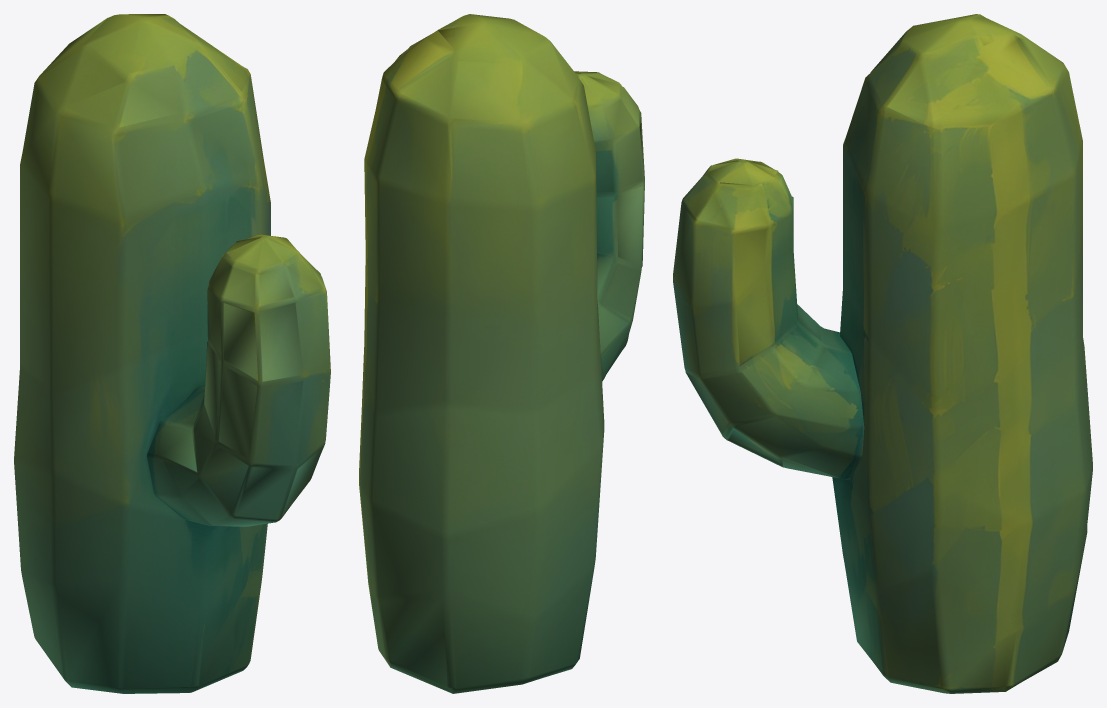
3 renders of one model, left to right at view 1: azimuth 30°, elevation 25°; view 2: azimuth 150°, elevation 25°; view 3: azimuth 270°, elevation 25°, orthographic.
Parts seen in each view (by area): view 1: tripo_node_52c6ef4e-ded5-4650-a8be-d9499c715ced; view 2: tripo_node_52c6ef4e-ded5-4650-a8be-d9499c715ced; view 3: tripo_node_52c6ef4e-ded5-4650-a8be-d9499c715ced.
Part boxes in pixels (x1,y1,x2,y2): tripo_node_52c6ef4e-ded5-4650-a8be-d9499c715ced: (14, 14, 330, 693); tripo_node_52c6ef4e-ded5-4650-a8be-d9499c715ced: (359, 14, 644, 693); tripo_node_52c6ef4e-ded5-4650-a8be-d9499c715ced: (673, 14, 1092, 693).
Size of the model in its own units: 0.3535 by 0.998 by 0.584.
Materials: 1 (1 with a texture image).
